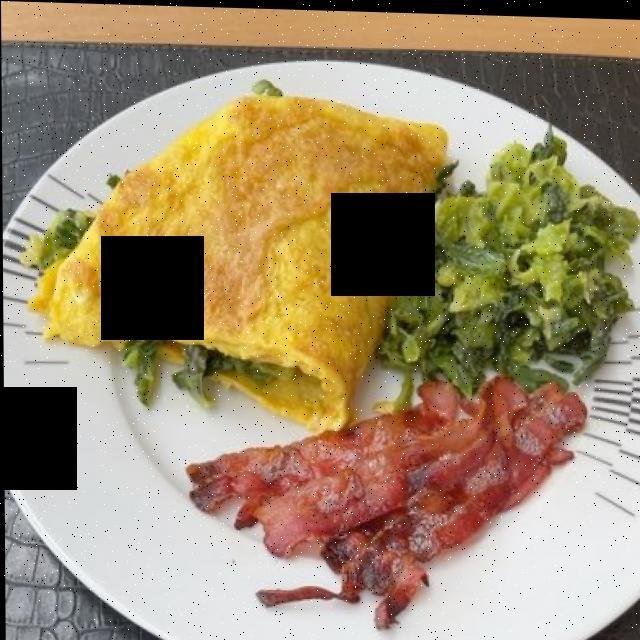bacon: (179, 377, 576, 622)
egg: (43, 102, 442, 412)
